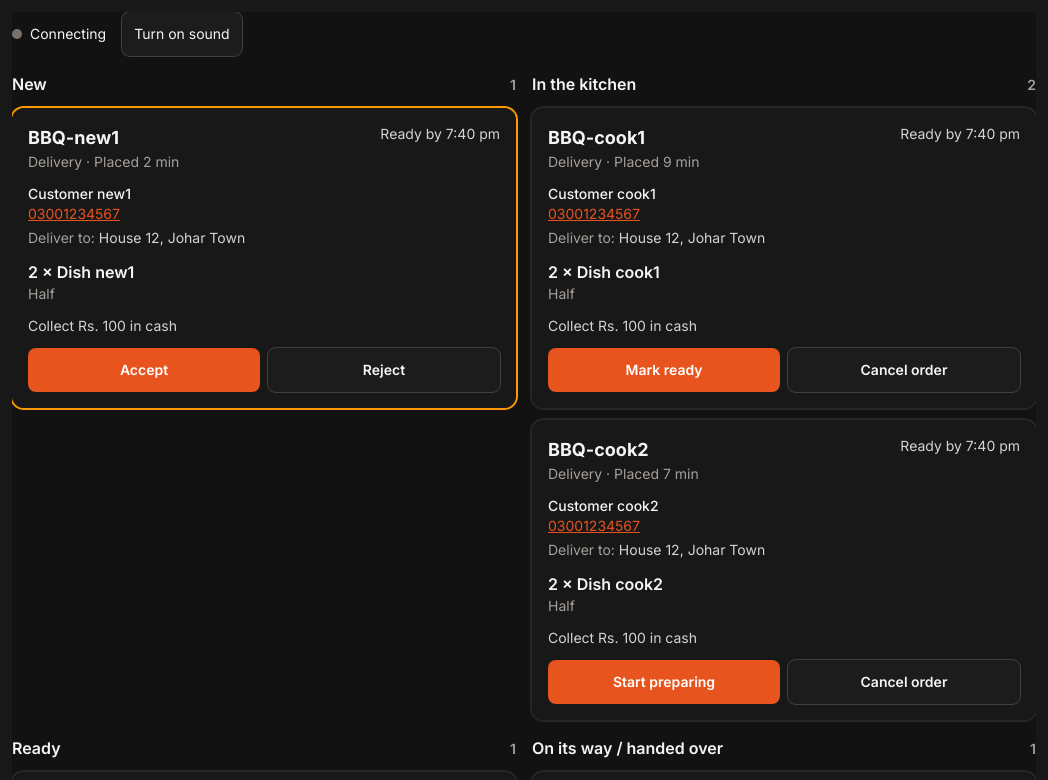
Test: the order board › moving an order › shows a generic message for other failures
The image size is (1048, 780).
Check: the heading "BBQ-new1" is shown, box [28,127,119,148]
Step 1. Click the button "Accept" → (144, 370), box [28,348,260,392]
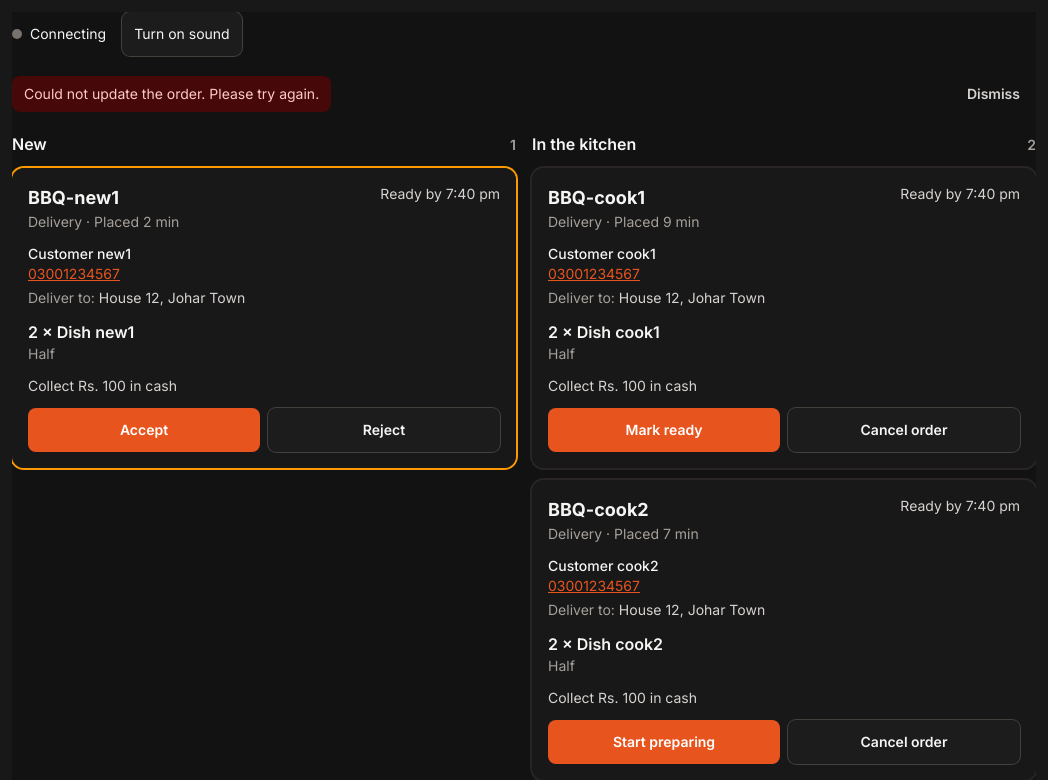
Check: the text "Could not update the order. Please try again." is shown, box [12,76,331,112]
